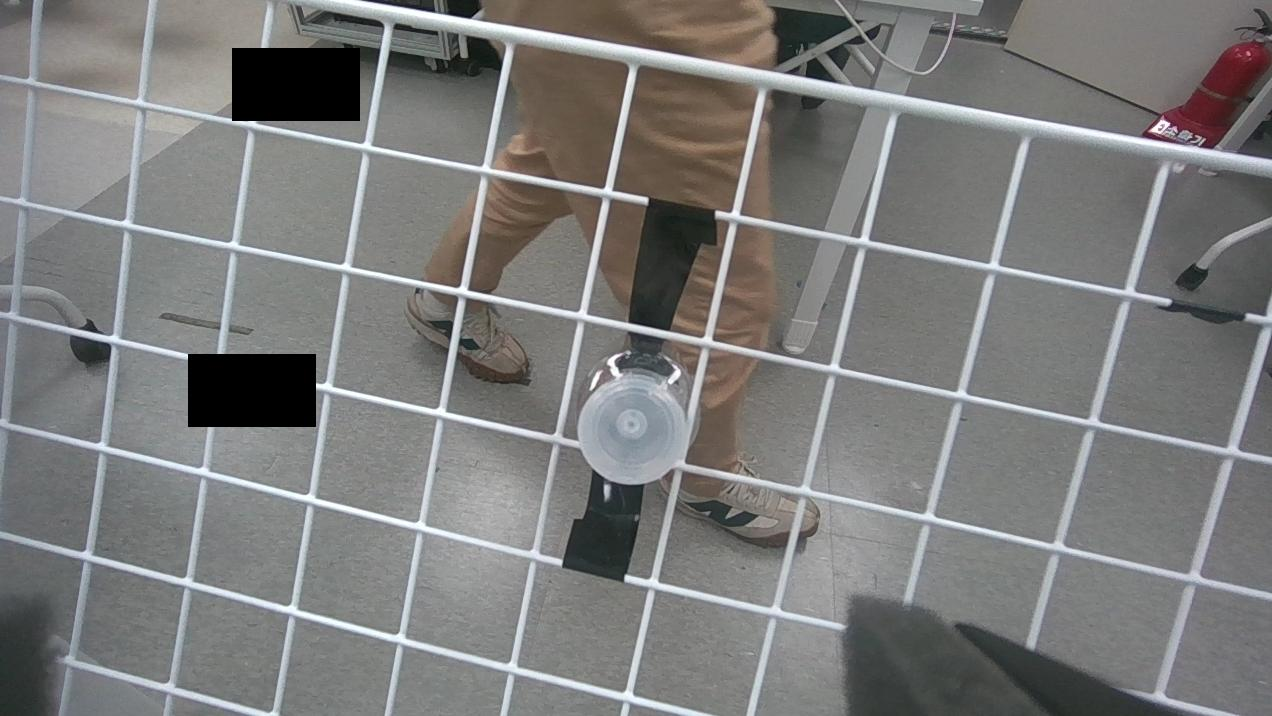Cap: (576, 378, 688, 486)
